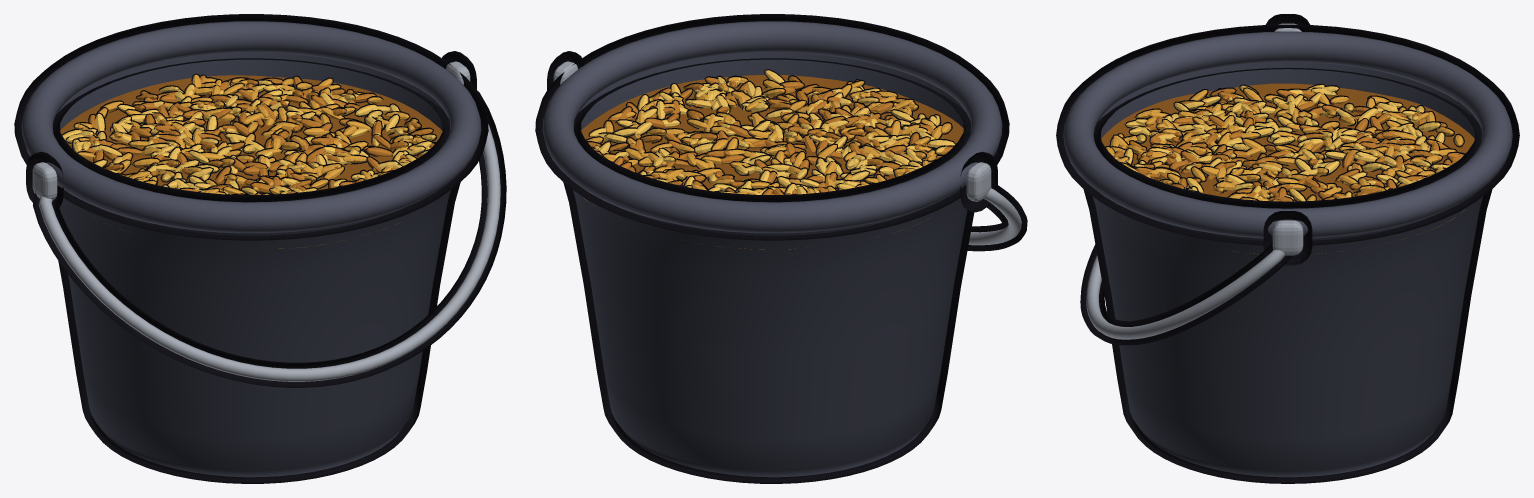
File: eimer-stufe1-12l.glb
3 renders of one model, left to right at view 1: azimuth 30°, elevation 25°; view 2: azimuth 150°, elevation 25°; view 3: azimuth 270°, elevation 25°, orthographic. The views are drawn at different scales.
Parts seen in each view (by area): view 1: koerper, Torus, buegel, fuellung_stufe1_mittel, fuellung_stufe1_dunkel, fuellung_stufe1_hell, fuellung_stufe1_basis, Cube, Cube.001; view 2: koerper, Torus, fuellung_stufe1_mittel, fuellung_stufe1_hell, fuellung_stufe1_dunkel, fuellung_stufe1_basis, buegel, Cube, Cube.001; view 3: koerper, Torus, fuellung_stufe1_hell, fuellung_stufe1_mittel, fuellung_stufe1_dunkel, buegel, fuellung_stufe1_basis, Cube.001, Cube.
Part boxes in pixels (x1,y1,x2,y2): koerper: [57, 52, 460, 483]; Torus: [14, 14, 488, 240]; buegel: [33, 90, 506, 387]; fuellung_stufe1_mittel: [73, 73, 435, 194]; fuellung_stufe1_dunkel: [80, 74, 435, 194]; fuellung_stufe1_hell: [62, 79, 436, 194]; fuellung_stufe1_basis: [60, 75, 442, 248]; Cube: [26, 151, 63, 207]; Cube.001: [439, 51, 476, 89]; koerper: [563, 52, 974, 483]; Torus: [535, 14, 1009, 240]; fuellung_stufe1_mittel: [586, 75, 952, 194]; fuellung_stufe1_hell: [588, 69, 955, 194]; fuellung_stufe1_dunkel: [587, 75, 953, 194]; fuellung_stufe1_basis: [581, 75, 963, 249]; buegel: [967, 182, 1027, 251]; Cube: [960, 151, 997, 212]; Cube.001: [547, 51, 584, 89]; koerper: [1083, 62, 1492, 483]; Torus: [1056, 24, 1519, 245]; fuellung_stufe1_hell: [1113, 83, 1449, 201]; fuellung_stufe1_mittel: [1105, 87, 1464, 201]; fuellung_stufe1_dunkel: [1113, 87, 1465, 201]; buegel: [1080, 242, 1292, 345]; fuellung_stufe1_basis: [1101, 83, 1474, 254]; Cube.001: [1263, 211, 1312, 265]; Cube: [1265, 14, 1310, 31].
Bounding box in the file's own units: 48.52 × 31.98 × 44.36.
